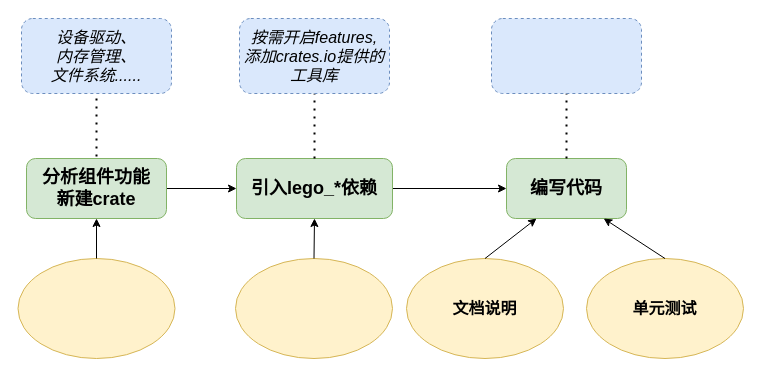
Image size: 761x376. Some labels were removed from this diagram. Each missing label, with the centre of its shape:
cargo new --lib **: (x=96, y=308)
lego_** = { version = "*", features = "**" }: (x=313, y=308)
实现lego_*中定义的接口，并使用其提供的工具进行开发: (x=566, y=56)
